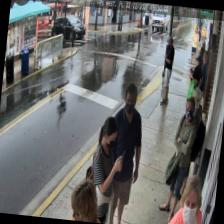person: (97, 81, 147, 224), (157, 94, 199, 224), (86, 115, 129, 224), (164, 170, 207, 224), (68, 178, 104, 224)
